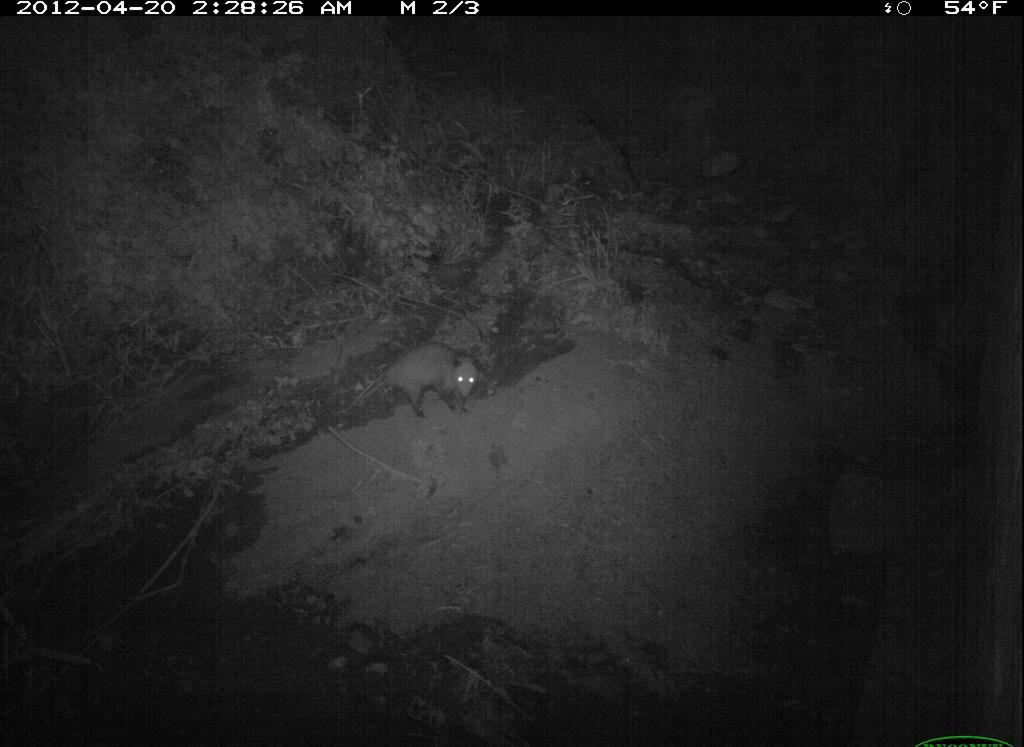opossum: (333, 340, 491, 420)
